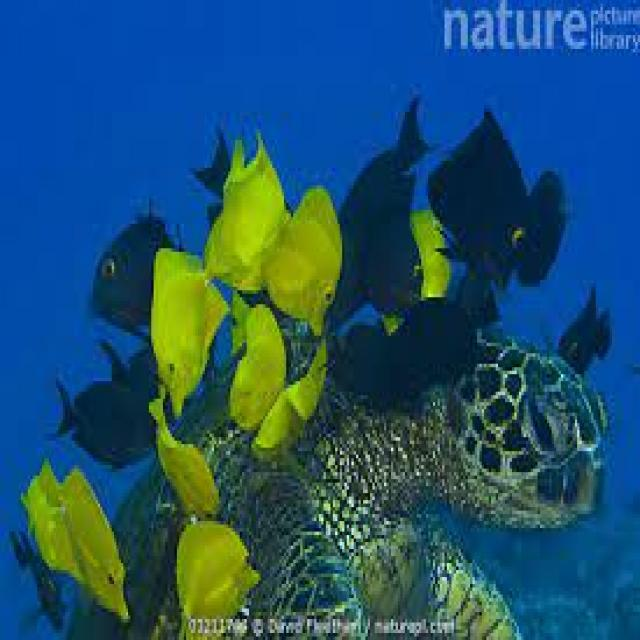YellowTang: (27, 449, 138, 629), (256, 162, 343, 324), (202, 139, 289, 294), (149, 236, 225, 394), (172, 507, 257, 639), (143, 391, 220, 511), (258, 337, 327, 462), (232, 288, 288, 436)
